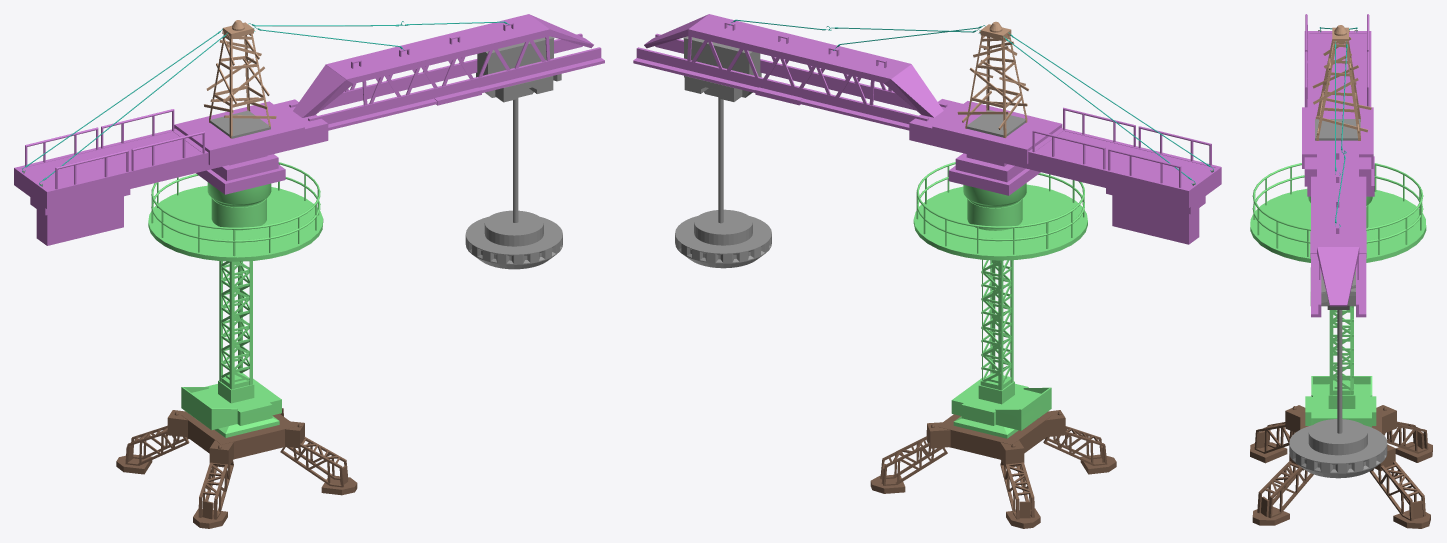
File: crane_V4.FBX
3 renders of one model, left to right at view 1: azimuth 30°, elevation 25°; view 2: azimuth 150°, elevation 25°; view 3: azimuth 270°, elevation 25°, orthographic.
Visible parts, largest first — view 1: Box095, Object018, Box004, Object020, Line281, wires, Box090; view 2: Box095, Object018, Box004, Object020, Line281, wires, Box090; view 3: Box095, Object018, Box004, Object020, Line281, Box090, wires.
Boxes of the visible parts, x1,y1,x2,y2 form: Box095: [14, 14, 604, 245]; Object018: [148, 162, 323, 437]; Box004: [116, 408, 357, 528]; Object020: [465, 36, 562, 269]; Line281: [204, 20, 276, 138]; wires: [22, 21, 509, 185]; Box090: [210, 110, 270, 138]; Box095: [633, 14, 1221, 244]; Object018: [913, 162, 1087, 438]; Box004: [870, 410, 1116, 528]; Object020: [675, 36, 771, 268]; Line281: [957, 21, 1028, 137]; wires: [729, 19, 1213, 184]; Box090: [967, 110, 1025, 137]; Box095: [1302, 14, 1374, 317]; Object018: [1250, 163, 1426, 427]; Box004: [1250, 405, 1432, 528]; Object020: [1289, 267, 1387, 478]; Line281: [1312, 25, 1371, 140]; Box090: [1315, 119, 1360, 140]; wires: [1319, 27, 1357, 227].
Bounding box in the file's own units: 1433 × 1115 × 402.
